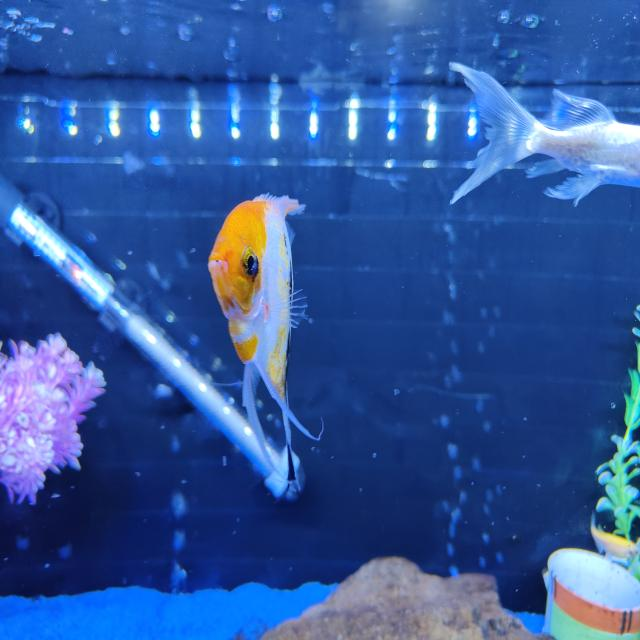Fish: (208, 194, 318, 493), (449, 63, 639, 205), (590, 514, 639, 559)
